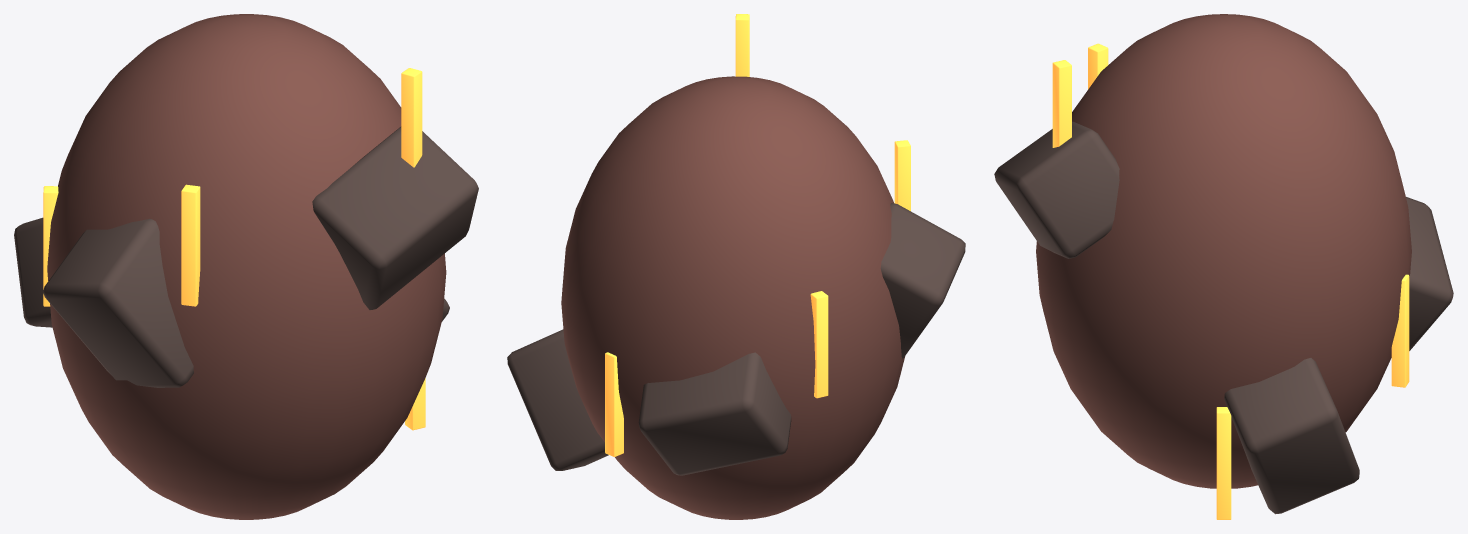
Rendered from volcano_egg.glb.
The picture shows the model from 3 angles, left to right: view 1: azimuth 30°, elevation 25°; view 2: azimuth 150°, elevation 25°; view 3: azimuth 270°, elevation 25°; orthographic projection. The views are drawn at different scales.
Visible parts, largest first — view 1: volcano_egg; view 2: volcano_egg; view 3: volcano_egg.
Boxes of the visible parts, x1,y1,x2,y2 form: volcano_egg: [14, 14, 478, 519]; volcano_egg: [507, 14, 965, 519]; volcano_egg: [994, 14, 1453, 519].
Bounding box in the file's own units: 0.9582 × 1 × 0.9285.
